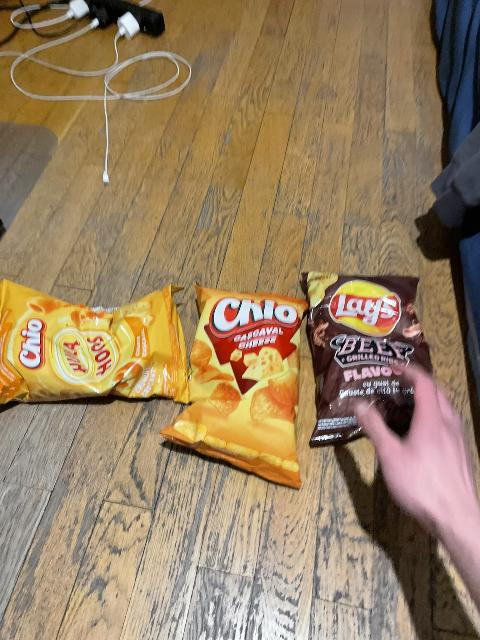Chio Cascaval 125g: (158, 282, 310, 486)
Chio Hula Hoops Cheese 70g: (0, 279, 191, 403)
Lays Beef Grilled Ribs 125g: (303, 273, 423, 445)
